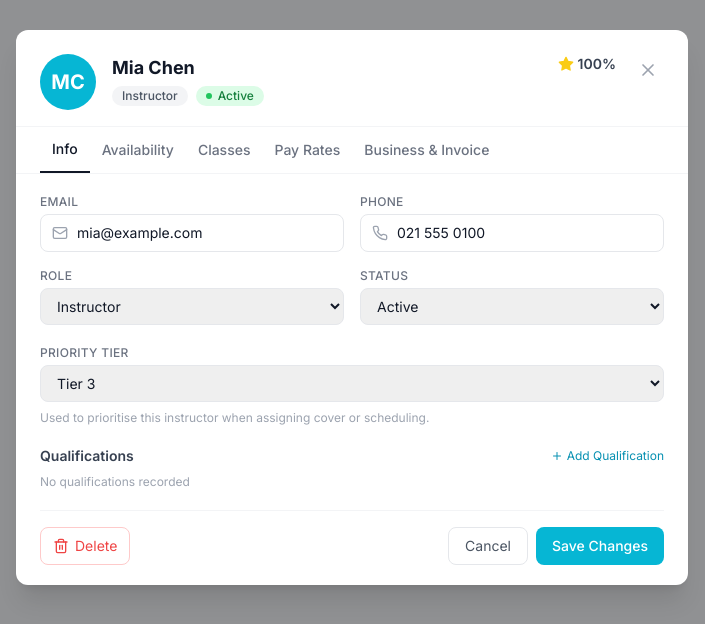
Test: StaffDetailModal — other tabs › loads the saved per-head rate back into the pay rate form
Click the button "Pay Rates" at (307, 150), box [262,126,352,172]
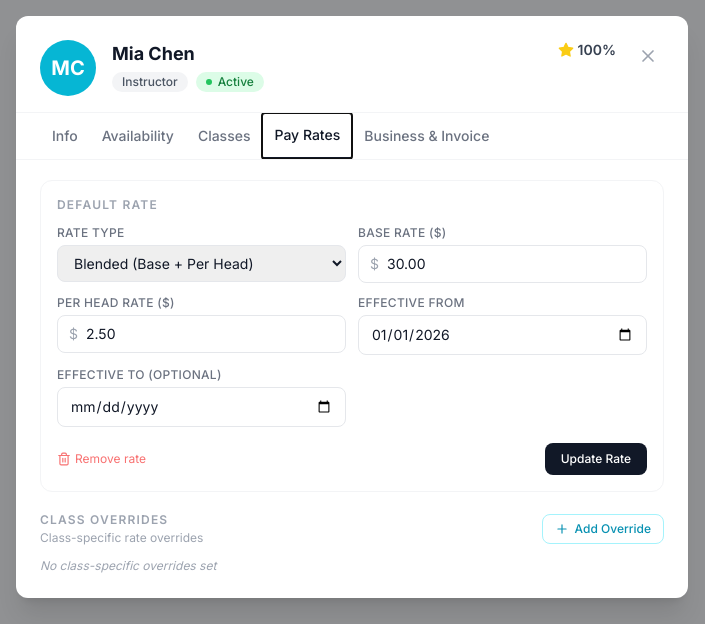
Now the number field showing "2.50" below "Per Head Rate ($)" is shown, box [57,315,346,353]
